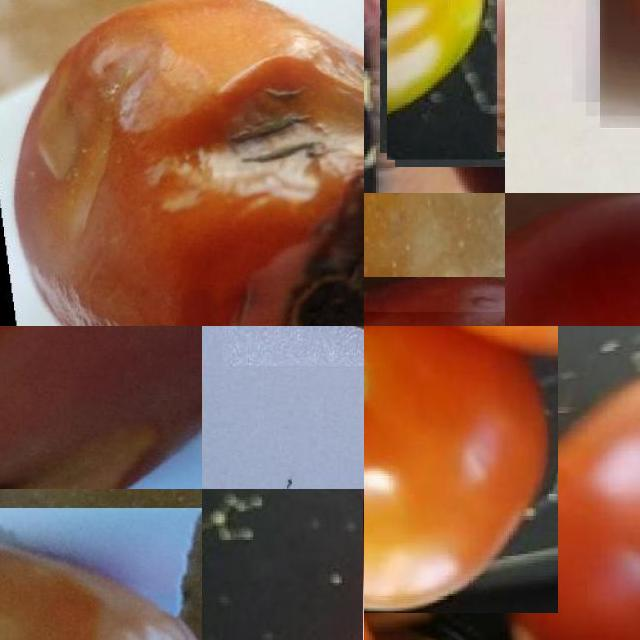0: (505, 193, 640, 326)
1: (387, 0, 505, 160), (364, 312, 505, 326)
Fresh Tomato: (364, 326, 558, 613), (507, 343, 640, 640)
Rotten Tomato: (0, 0, 364, 326), (0, 326, 202, 489), (0, 508, 202, 640)
